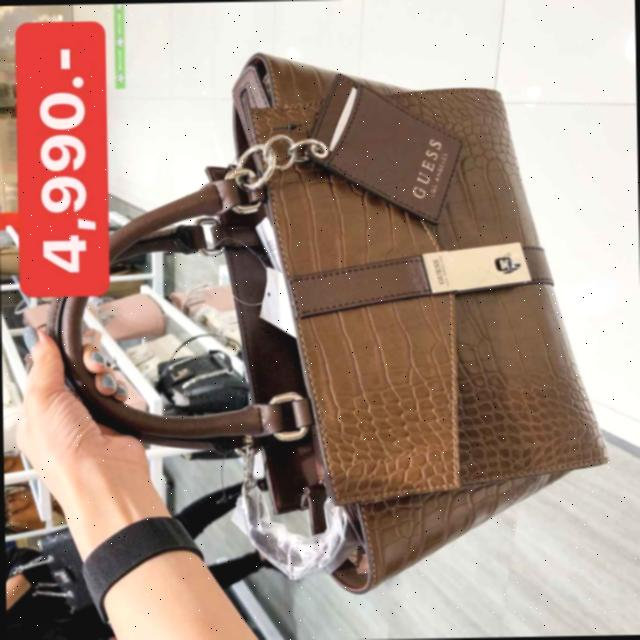handbag: (184, 42, 620, 598)
